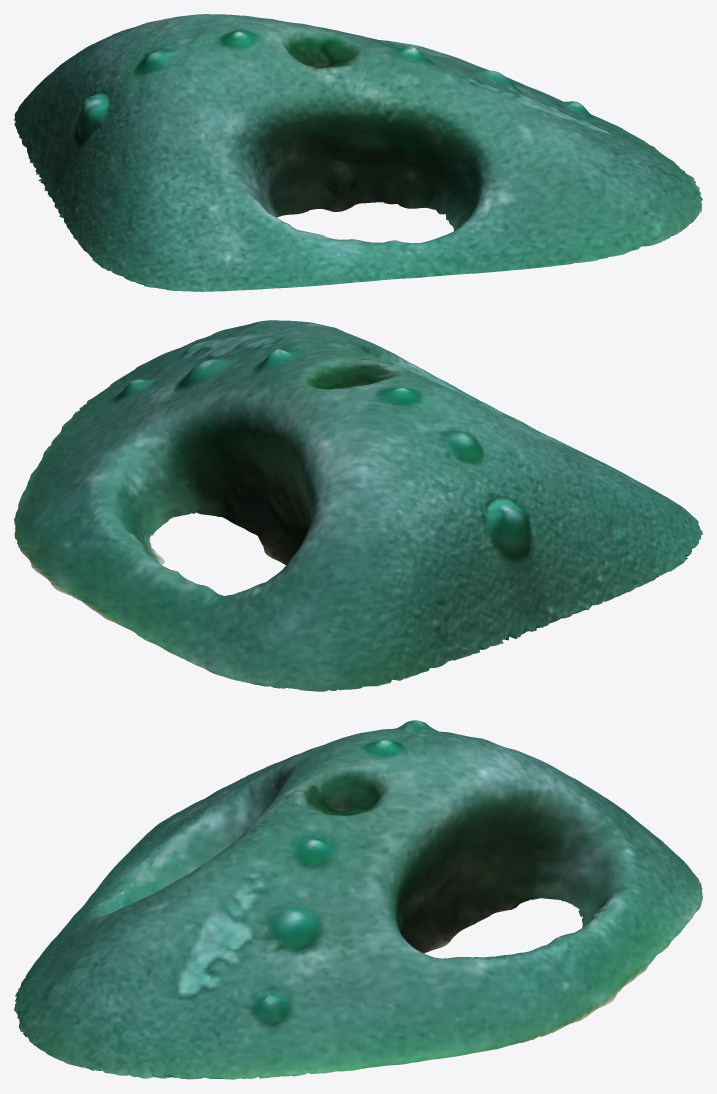
The model's file is pinch.glb.
3 views of the same model, one above another, from view 1: azimuth 30°, elevation 25°; view 2: azimuth 150°, elevation 25°; view 3: azimuth 270°, elevation 25° (orthographic). The views are drawn at different scales.
Parts seen in each view (by area): view 1: entity_2_5; view 2: entity_2_5; view 3: entity_2_5.
Boxes of the visible parts, bbox=[...] form: entity_2_5: bbox=[14, 14, 702, 291]; entity_2_5: bbox=[14, 320, 702, 691]; entity_2_5: bbox=[14, 720, 702, 1079].
Bounding box in the file's own units: 0.8772 × 0.229 × 0.9059.
Materials: 4 (3 with a texture image).
